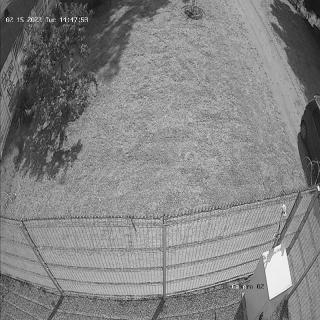car: (300, 93, 320, 188)
